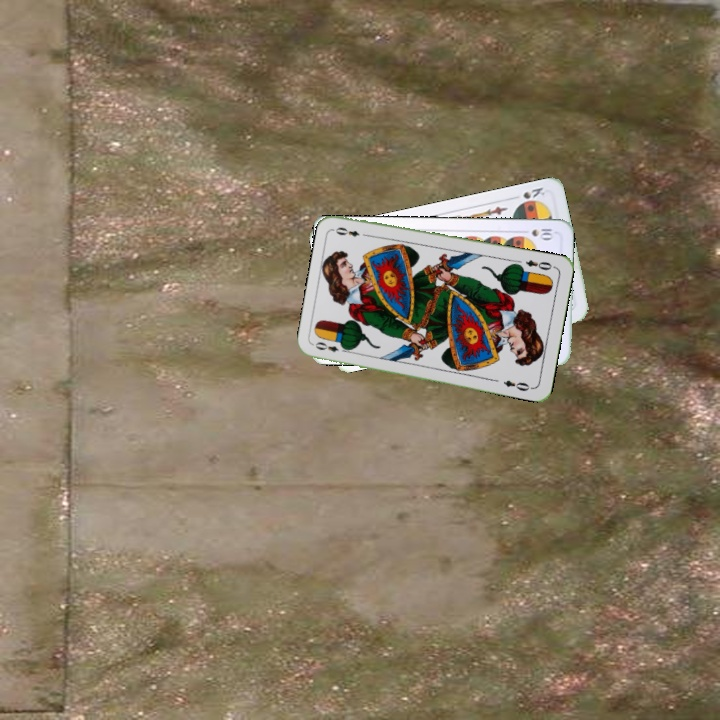EO: (311, 338, 351, 355), (522, 256, 558, 273)
S10: (517, 224, 555, 241)
SK: (519, 183, 547, 201)
